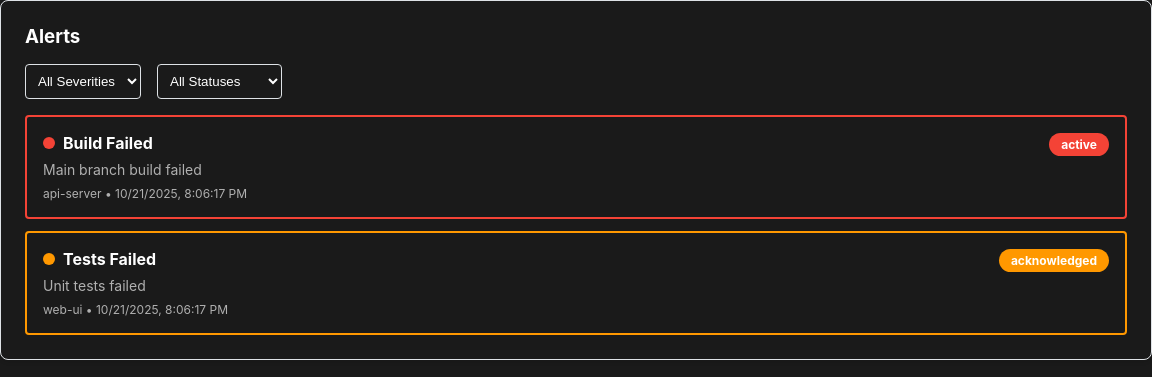
Test: AlertsPanel › should filter alerts by severity
The width and height of the screenshot is (1152, 377).
Check: the text "Build Failed" is shown, box [63, 133, 153, 153]
Select "High" in the 1st dropdown showing "All Severities" at (83, 82), box [25, 64, 141, 99]
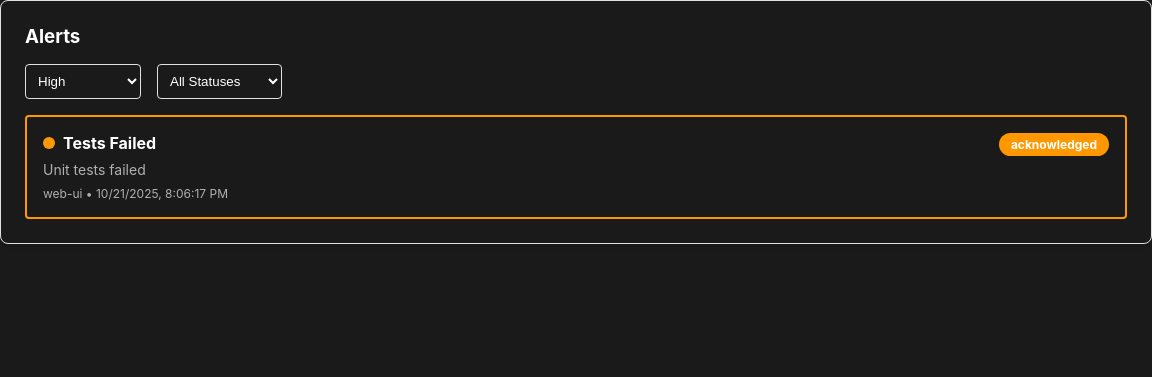
Check: the text "Tests Failed" is shown, box [63, 133, 156, 153]
Check: the text "Build Failed" is gone
